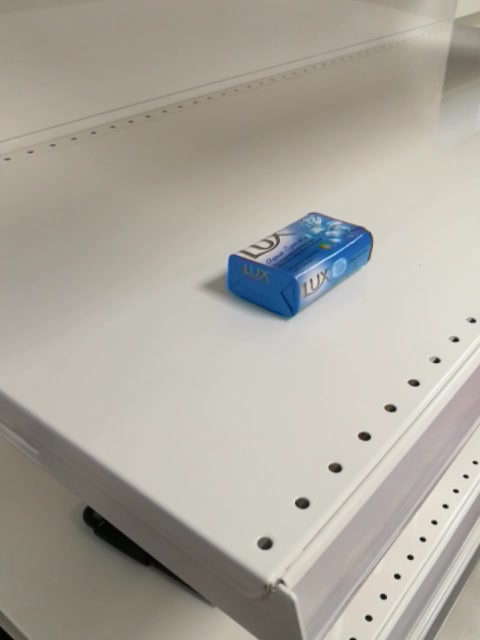soap: (227, 210, 374, 318)
